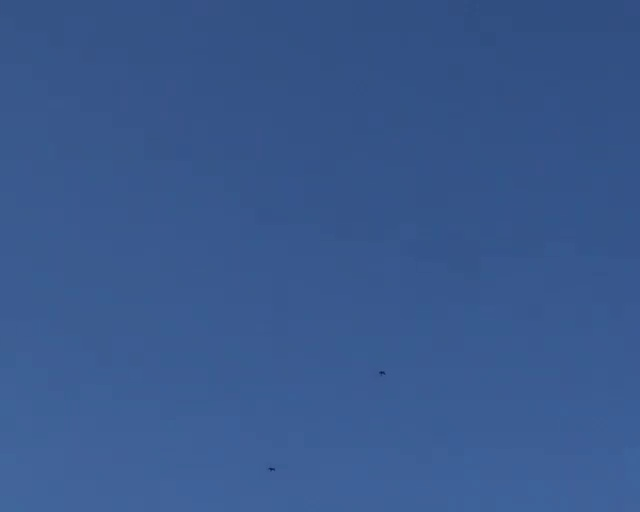BIRD: (378, 369, 386, 376)
